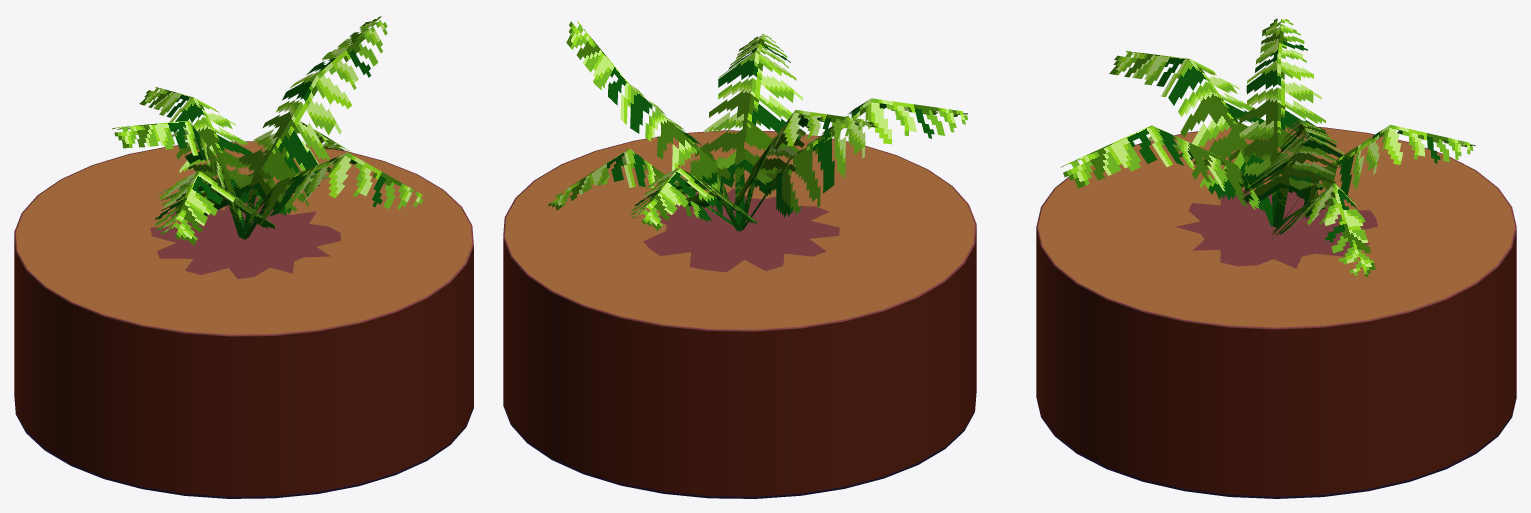
Rendered from p fern.glb.
The picture shows the model from 3 angles, left to right: view 1: azimuth 30°, elevation 25°; view 2: azimuth 150°, elevation 25°; view 3: azimuth 270°, elevation 25°; orthographic projection. The views are drawn at different scales.
Parts seen in each view (by area): view 1: Circle; view 2: Circle; view 3: Circle.
Boxes of the visible parts, left/top/right/bottom form: Circle: left=14, top=16, right=473, bottom=498; Circle: left=503, top=21, right=976, bottom=498; Circle: left=1036, top=18, right=1516, bottom=498.
Size of the model in its own units: 1.63 by 1.34 by 1.68.
Materials: 1 (1 with a texture image).
